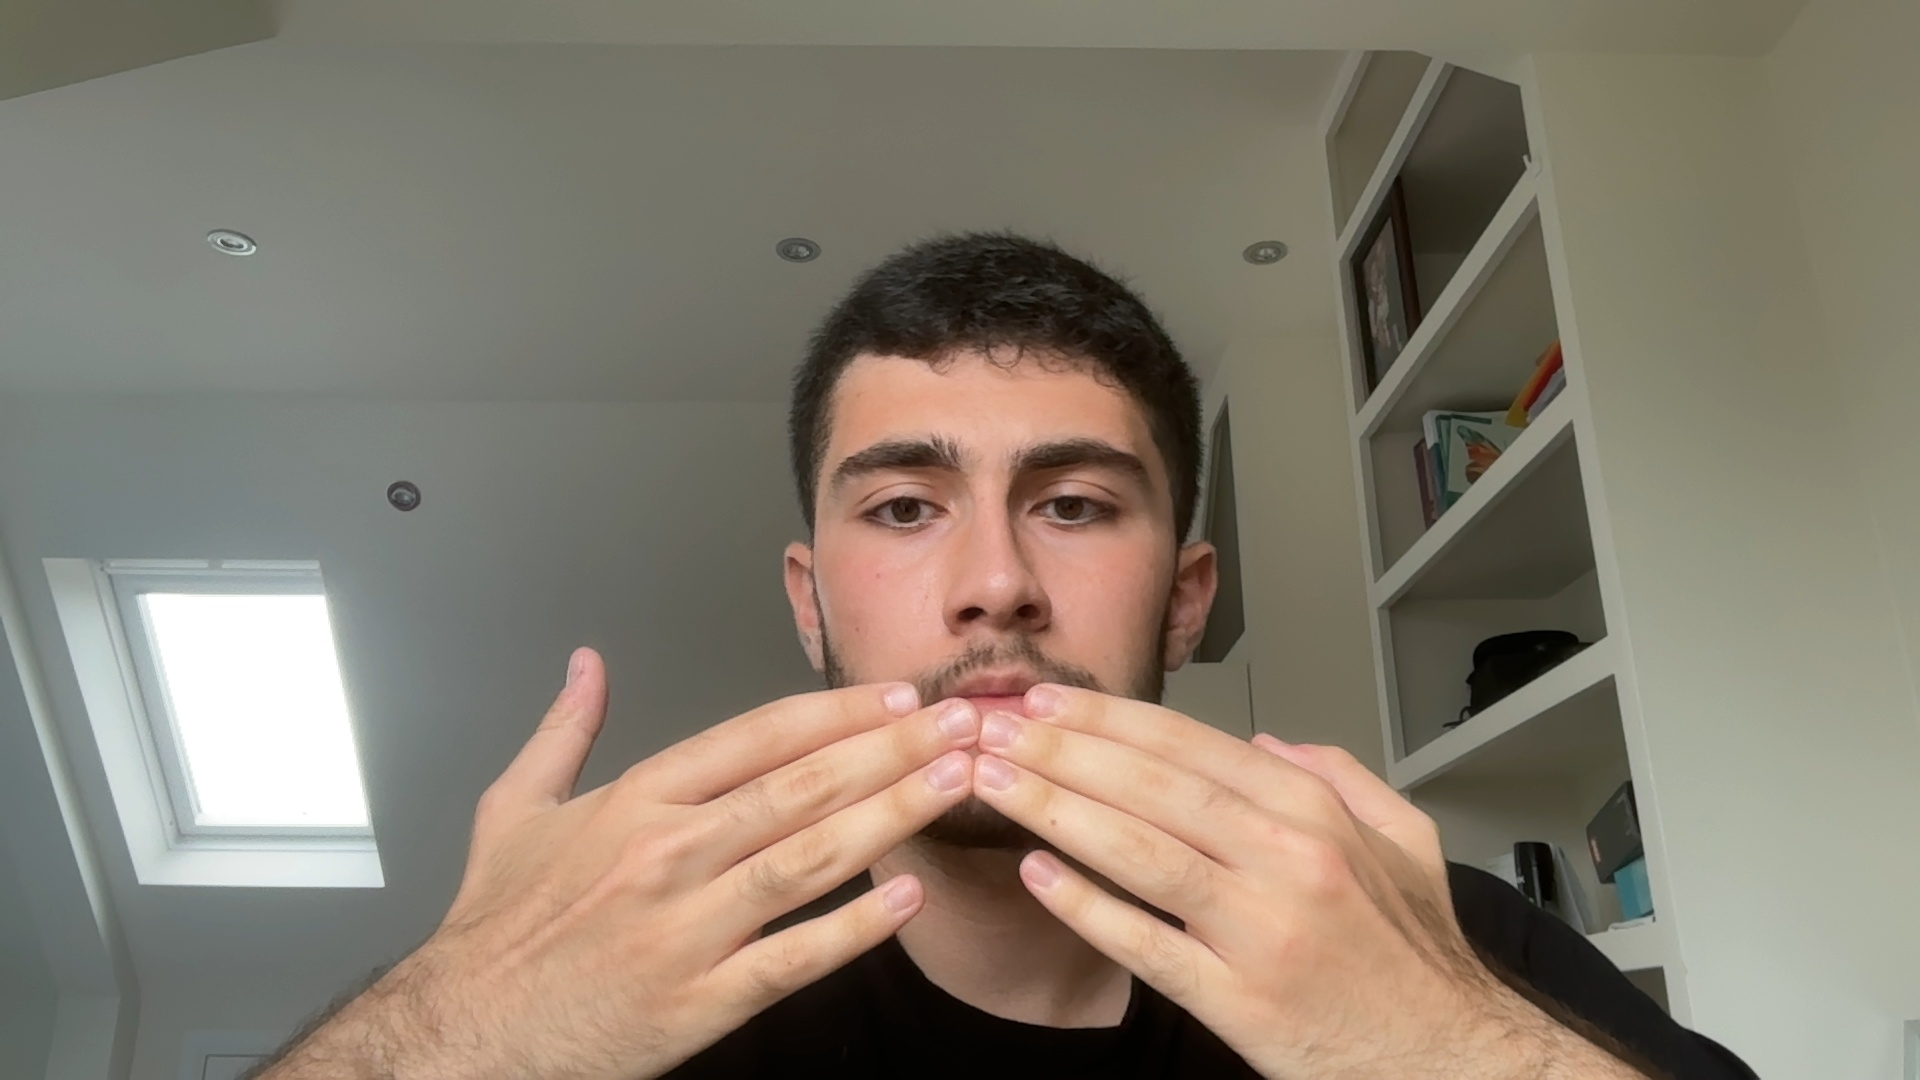Thank You: (328, 626, 1643, 1080)
